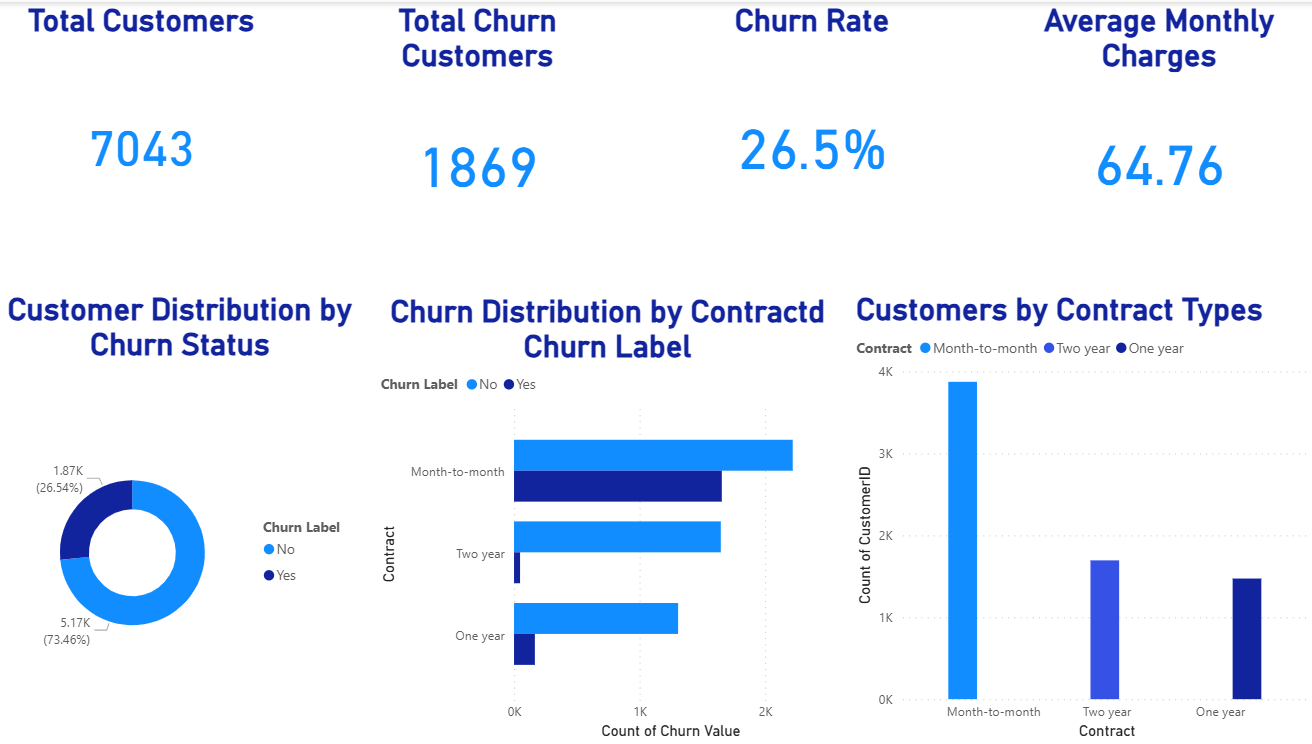

The page's visual inventory and layout, read from the dashboard file:
{"tool":"powerbi","page":{"name":"Executive Overview","canvas":[1280,720],"ordinal":0},"visuals":[{"type":"card","title":"Total Customers","fields":{"Values":["Count(Telco_customer_churn(Telco_Churn).CustomerID)"]},"box":[0,0,281.3,237.9],"z":0},{"type":"card","title":"Total Churn Customers","fields":{"Values":["Sum(Telco_customer_churn(Telco_Churn).Churn Value)"]},"box":[326.6,0,279.4,237.9],"z":1000},{"type":"card","title":"Churn Rate","fields":{"Values":["Telco_customer_churn(Telco_Churn).Churn Rate"]},"box":[651.3,0,279.4,237.9],"z":2000},{"type":"card","title":"Average Monthly Charges","fields":{"Values":["Avg(Telco_customer_churn(Telco_Churn).Monthly Charges)"]},"box":[976,0,304,234.1],"z":3000},{"type":"donutChart","title":"Customer Distribution by Churn Status","fields":{"Category":["Telco_customer_churn(Telco_Churn).Churn Label"],"Y":["CountNonNull(Telco_customer_churn(Telco_Churn).CustomerID)"]},"box":[0,281.3,356.8,438],"z":4000},{"type":"clusteredColumnChart","title":"Customers by Contract Types","fields":{"Series":["Telco_customer_churn(Telco_Churn).Contract"],"Y":["CountNonNull(Telco_customer_churn(Telco_Churn).CustomerID)"],"Category":["Telco_customer_churn(Telco_Churn).Contract"]},"box":[828.8,281.3,451.2,438],"z":5000},{"type":"clusteredBarChart","title":"Churn Distribution by Contractd Churn Label","fields":{"Y":["CountNonNull(Telco_customer_churn(Telco_Churn).Churn Value)"],"Category":["Telco_customer_churn(Telco_Churn).Contract"],"Series":["Telco_customer_churn(Telco_Churn).Churn Label"]},"box":[377.6,305.8,451.2,332.3],"z":6000}]}

Visuals, with their boxes in screenshot pixels (x1, y1, x2, y2), scaled from the page's 1280x720 canvas onto the 1312x744 screenshot:
"Total Customers" card: Rect(0, 0, 288, 246)
"Total Churn Customers" card: Rect(335, 0, 621, 246)
"Churn Rate" card: Rect(668, 0, 954, 246)
"Average Monthly Charges" card: Rect(1000, 0, 1311, 242)
"Customer Distribution by Churn Status" donutChart: Rect(0, 291, 366, 743)
"Customers by Contract Types" clusteredColumnChart: Rect(850, 291, 1311, 743)
"Churn Distribution by Contractd Churn Label" clusteredBarChart: Rect(387, 316, 850, 659)
